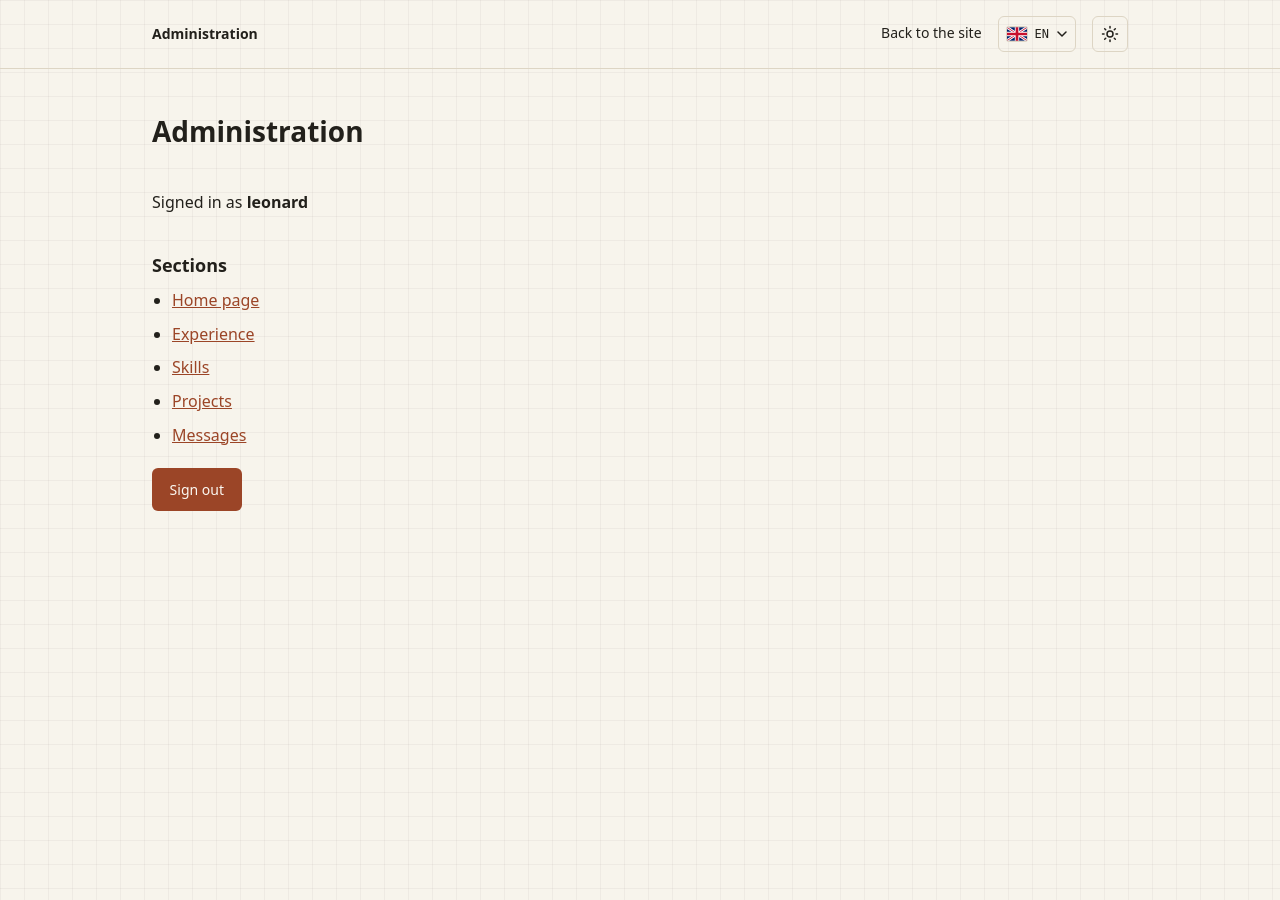
Test case: admin area › shows the signed-in admin and signs out
Expected: the text "leonard" is shown, [247,191,308,213]
Click the button "Sign out". click: click(197, 490)
box: [152,468,242,511]
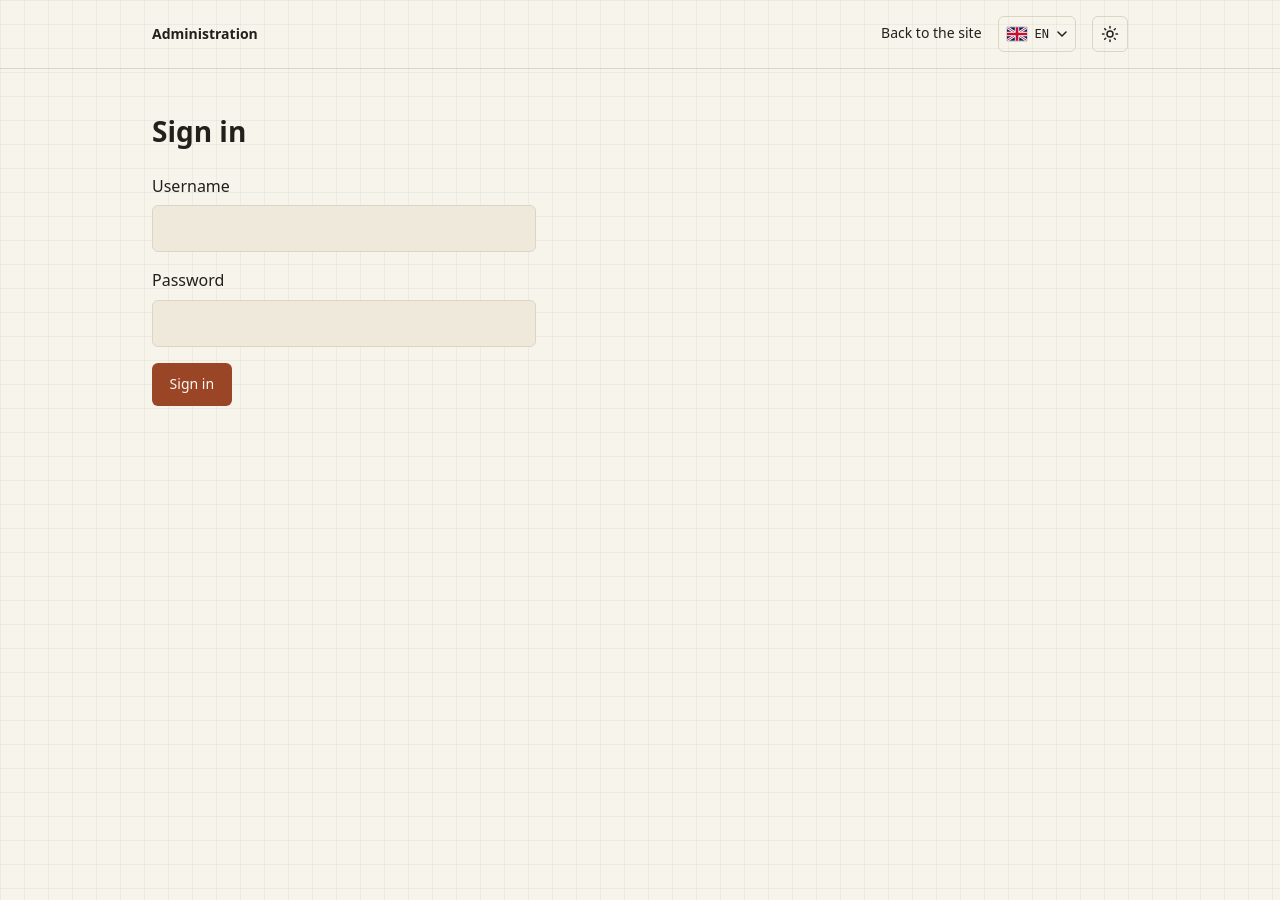
Result: the heading "Sign in" is shown at [152,112,246,150]
